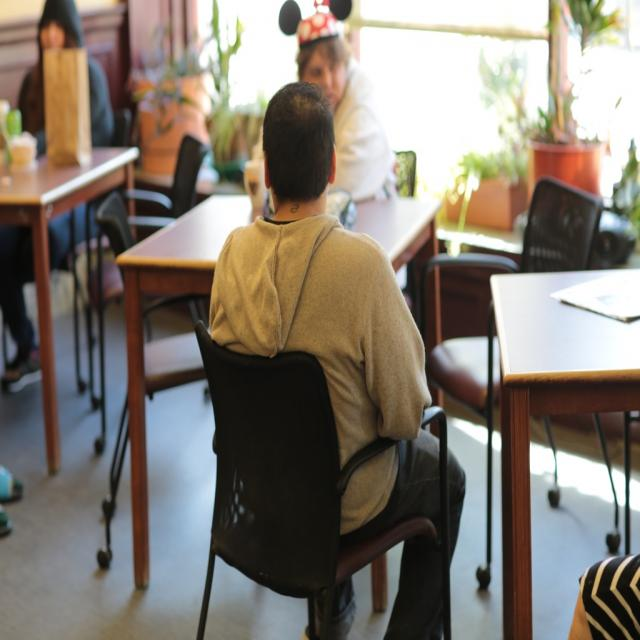chair: (193, 317, 457, 636), (424, 178, 624, 597)
desk: (492, 276, 638, 633)
person: (207, 82, 464, 620), (294, 5, 398, 202), (567, 552, 639, 637)
